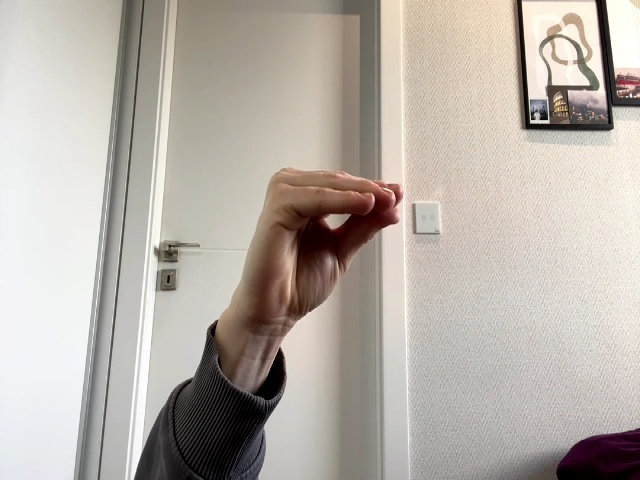E: (234, 167, 400, 334)
